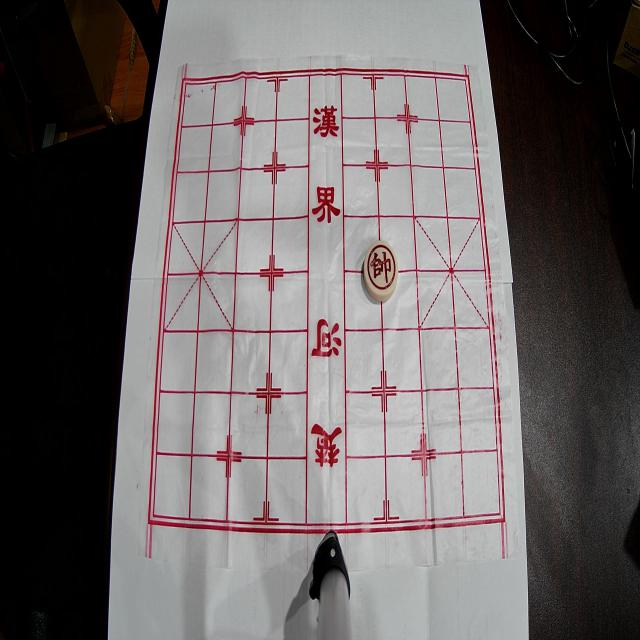red-general: (364, 240, 398, 302)
